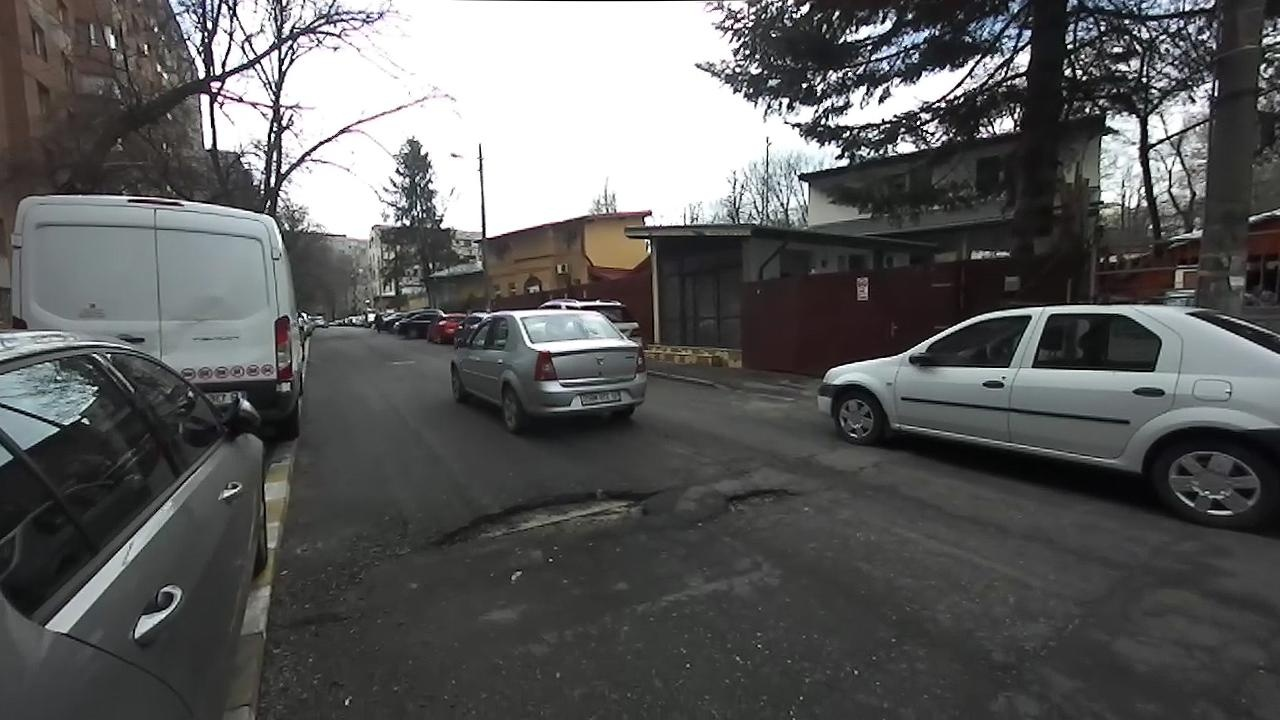pothole: (419, 482, 661, 557), (713, 482, 803, 521)
